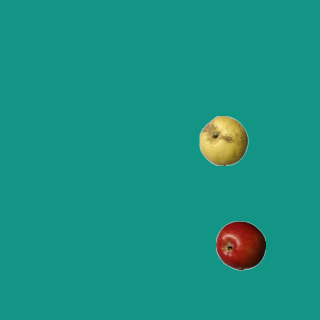Apple Braeburn: (215, 220, 265, 270)
Apple Golden 1: (198, 115, 248, 165)
